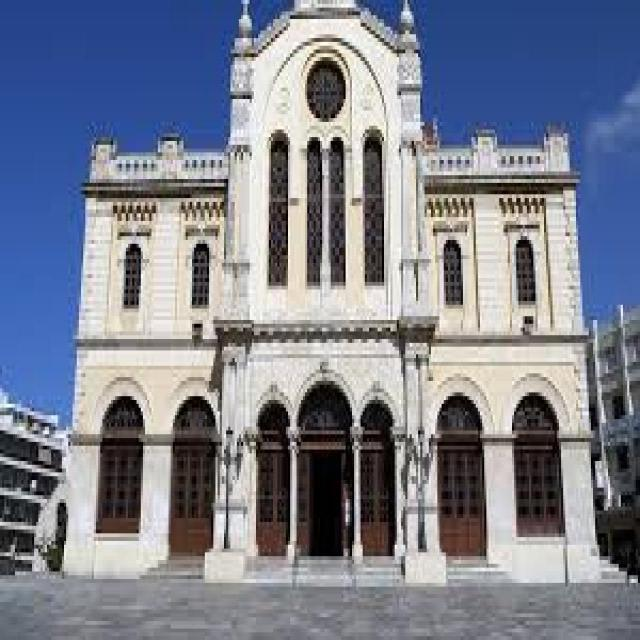Agios Minas: (60, 2, 605, 589)
